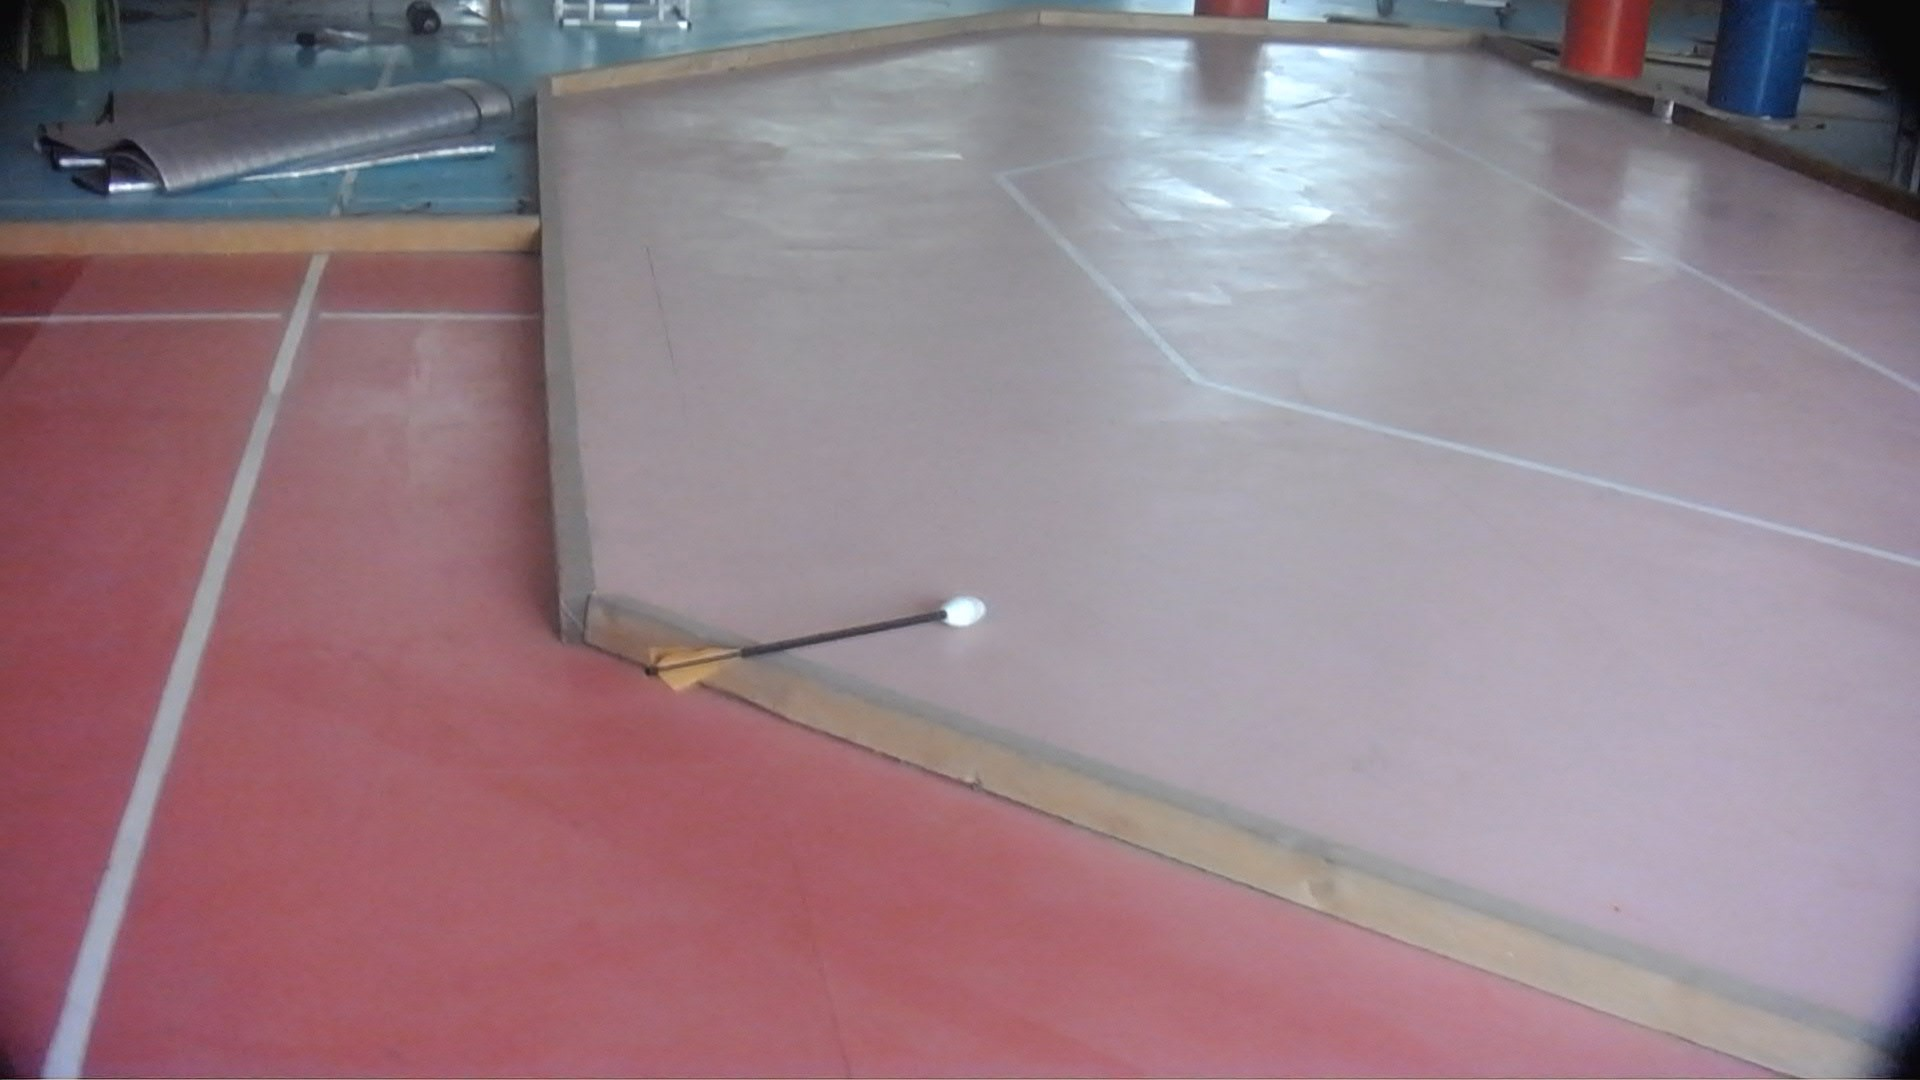arrow: (642, 596, 988, 691)
arrowFront: (934, 593, 988, 630)
